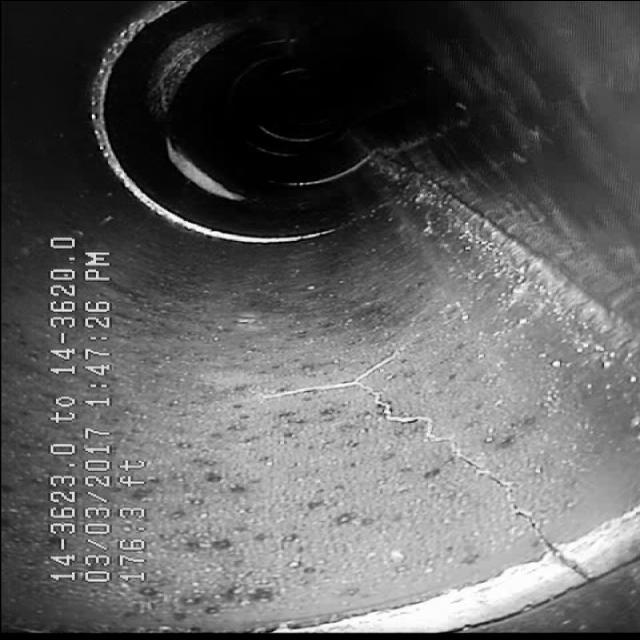Crack: (284, 334, 548, 542)
